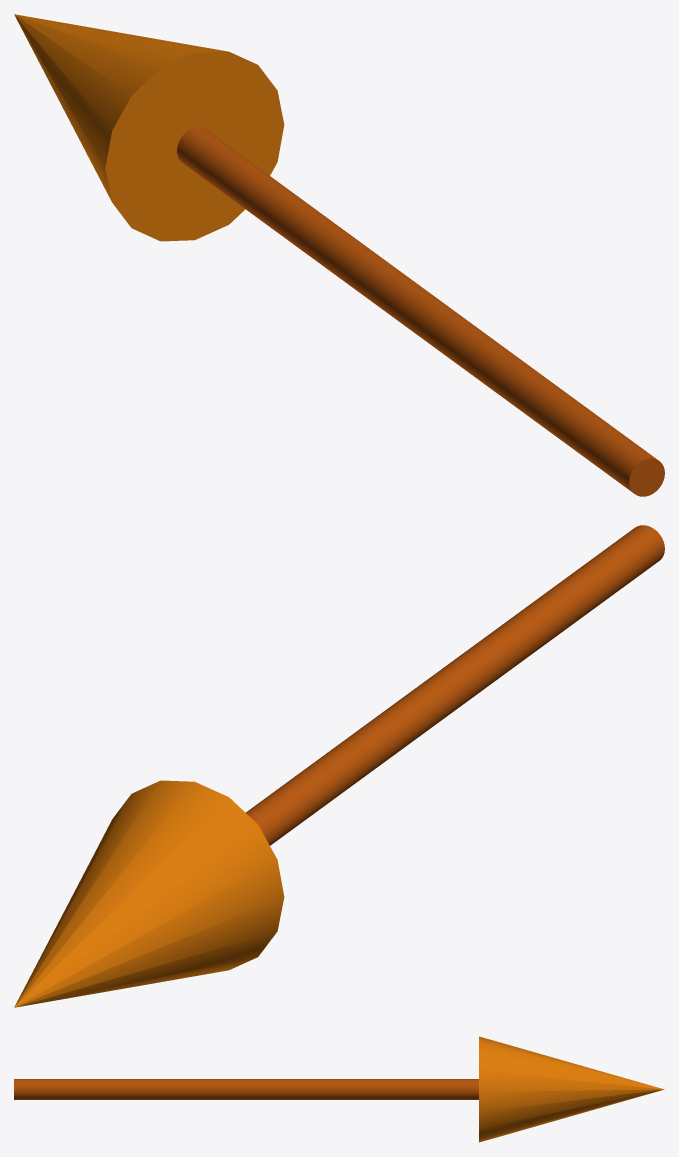
Rendered from broomstick.glb.
3 renders of one model, top to bottom at view 1: azimuth 30°, elevation 25°; view 2: azimuth 150°, elevation 25°; view 3: azimuth 270°, elevation 25°, orthographic. The views are drawn at different scales.
Size of the model in its own units: 0.1633 by 0.1633 by 1.
